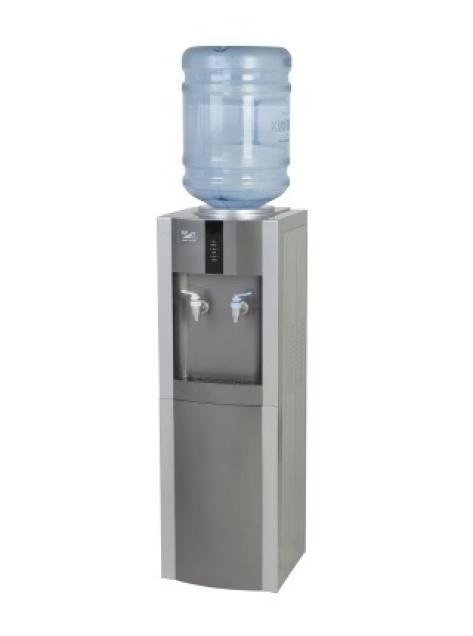Dispenser: (156, 45, 306, 592)
